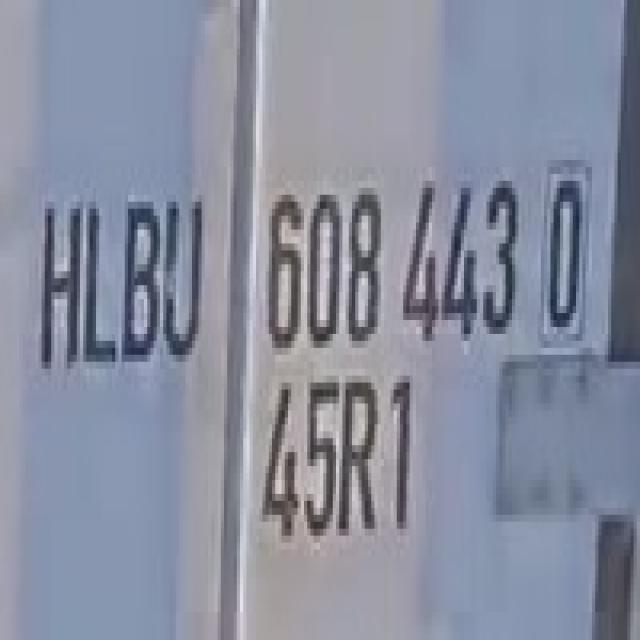dv: (540, 150, 592, 366)
owner: (30, 180, 209, 370)
serial: (256, 160, 532, 356)
size: (247, 364, 436, 574)
